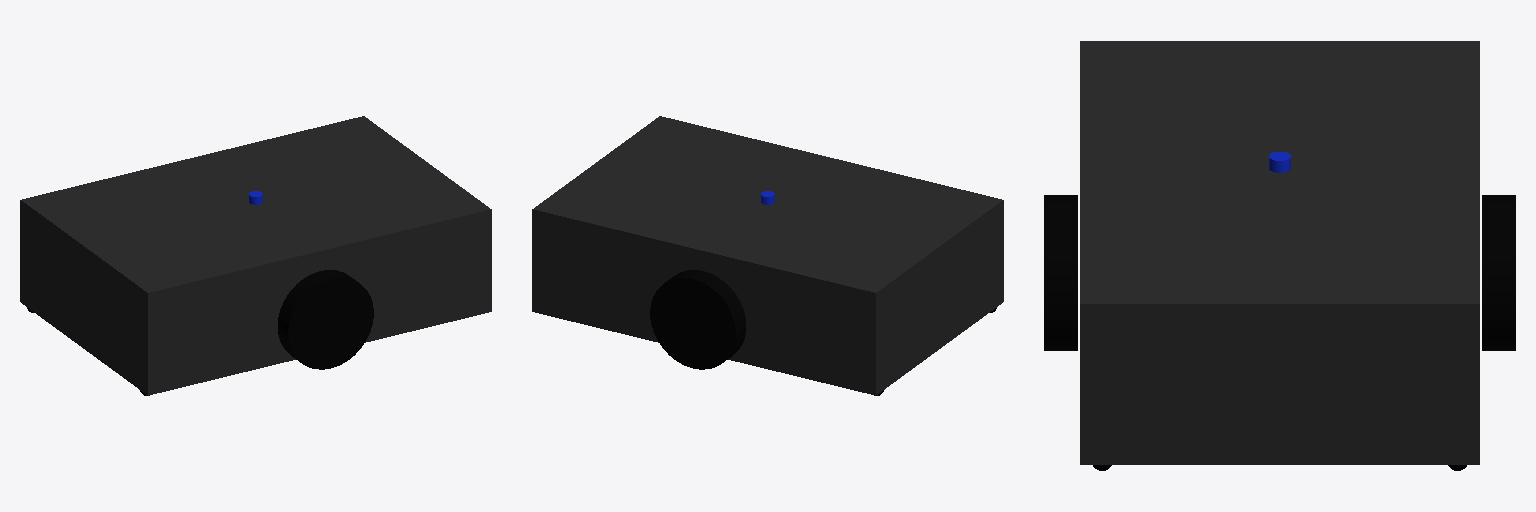
robot.urdf — diff_robot_xacro:
<?xml version="1.0" ?>
<!-- =================================================================================== -->
<!-- |    This document was autogenerated by xacro from testbot.urdf.xacro             | -->
<!-- |    EDITING THIS FILE BY HAND IS NOT RECOMMENDED                                 | -->
<!-- =================================================================================== -->
<robot name="diff_robot_xacro">
  <!-- materials -->
  <material name="dark_grey">
    <color rgba="0.2 0.2 0.2 1.0"/>
  </material>
  <material name="black">
    <color rgba="0.05 0.05 0.05 1.0"/>
  </material>
  <material name="blue">
    <color rgba="0.1 0.2 0.8 1.0"/>
  </material>
  <!-- ===================== Base & Footprint ===================== -->
  <link name="base_footprint"/>
  <link name="base_link"/>
  <joint name="base_joint" type="fixed">
    <parent link="base_footprint"/>
    <child link="base_link"/>
    <origin rpy="0 0 0.0" xyz="0.0 0 0.75"/>
  </joint>
  <link name="chassis_link">
    <inertial>
      <mass value="150.0"/>
      <inertia ixx="48.50000000000001" ixy="0" ixz="0" iyy="105.99999999999999" iyz="0" izz="138.49999999999997"/>
      <origin rpy="0 0 0" xyz="0 0 0"/>
    </inertial>
    <visual>
      <origin rpy="0 0 0" xyz="0 0 0"/>
      <geometry>
        <box size="2.8 1.8 0.8"/>
      </geometry>
      <material name="dark_grey"/>
    </visual>
    <collision>
      <origin rpy="0 0 0" xyz="0 0 0"/>
      <geometry>
        <box size="2.8 1.8 0.8"/>
      </geometry>
    </collision>
  </link>
  <joint name="chassis_joint" type="fixed">
    <parent link="base_link"/>
    <child link="chassis_link"/>
    <origin rpy="0 0 0.0" xyz="0.0 0 0"/>
  </joint>
  <!-- <link name="base_link">
    <inertial>
      <mass value="${base_mass}"/>
      <inertia
        ixx="${(1.0/12.0)*base_mass*(base_width*base_width + base_height*base_height)}"
        iyy="${(1.0/12.0)*base_mass*(base_length*base_length + base_height*base_height)}"
        izz="${(1.0/12.0)*base_mass*(base_length*base_length + base_width*base_width)}"
        ixy="0" ixz="0" iyz="0"/>
      <origin xyz="0 0 0" rpy="0 0 0"/>
    </inertial>
    <visual>
      <origin xyz="0 0 0" rpy="0 0 0"/>
      <geometry><box size="${base_length} ${base_width} ${base_height}"/></geometry>
      <material name="dark_grey"/>
    </visual>
    <collision>
      <origin xyz="0 0 0" rpy="0 0 0"/>
      <geometry><box size="${base_length} ${base_width} ${base_height}"/></geometry>
    </collision>
  </link> -->
  <!-- base_footprint at the ground projection of base_link -->
  <!-- <link name="base_footprint">
    <inertial>
      <mass value="0.001"/>
      <inertia ixx="1e-6" ixy="0" ixz="0" iyy="1e-6" iyz="0" izz="1e-6"/>
    </inertial>
  </link>
  <joint name="base_footprint_joint" type="fixed">
    <parent link="base_footprint"/>
    <child  link="base_link"/>
    <origin xyz="0 0 ${-half_h + ground_clearance}" rpy="0 0 0"/>
  </joint> -->
  <!-- ===================== Drive Wheels ===================== -->
  <link name="left_wheel_link">
    <inertial>
      <mass value="10.0"/>
      <!-- solid cylinder inertia: axis along +Y -->
      <inertia ixx="0.32499999999999996" ixy="0" ixz="0" iyy="0.6124999999999999" iyz="0" izz="0.32499999999999996"/>
    </inertial>
    <!-- ROTATION FIX: align cylinder axis (Z) to joint axis (Y) by +90° about X -->
    <visual>
      <origin rpy="1.57079632679 0 0" xyz="0 0 0"/>
      <geometry>
        <cylinder length="0.15" radius="0.35"/>
      </geometry>
      <material name="black"/>
    </visual>
    <collision>
      <origin rpy="1.57079632679 0 0" xyz="0 0 0"/>
      <geometry>
        <cylinder length="0.15" radius="0.35"/>
      </geometry>
      <surface>
        <friction>
          <ode>
            <mu>1.6</mu>
            <mu2>1.6</mu2>
            <slip1>0.02</slip1>
            <slip2>0.02</slip2>
          </ode>
        </friction>
      </surface>
    </collision>
  </link>
  <link name="right_wheel_link">
    <inertial>
      <mass value="10.0"/>
      <inertia ixx="0.32499999999999996" ixy="0" ixz="0" iyy="0.6124999999999999" iyz="0" izz="0.32499999999999996"/>
    </inertial>
    <visual>
      <origin rpy="1.57079632679 0 0" xyz="0 0 0"/>
      <geometry>
        <cylinder length="0.15" radius="0.35"/>
      </geometry>
      <material name="black"/>
    </visual>
    <collision>
      <origin rpy="1.57079632679 0 0" xyz="0 0 0"/>
      <geometry>
        <cylinder length="0.15" radius="0.35"/>
      </geometry>
      <surface>
        <friction>
          <ode>
            <mu>1.6</mu>
            <mu2>1.6</mu2>
            <slip1>0.02</slip1>
            <slip2>0.02</slip2>
          </ode>
        </friction>
      </surface>
    </collision>
  </link>
  <joint name="left_wheel_joint" type="continuous">
    <parent link="base_link"/>
    <child link="left_wheel_link"/>
    <origin rpy="0 0 0" xyz="0 0.985 -0.10000000000000005"/>
    <axis xyz="0 1 0"/>
    <limit effort="200.0" velocity="20.0"/>
    <dynamics damping="0.2" friction="0.0"/>
  </joint>
  <joint name="right_wheel_joint" type="continuous">
    <parent link="base_link"/>
    <child link="right_wheel_link"/>
    <origin rpy="0 0 0" xyz="0 -0.985 -0.10000000000000005"/>
    <axis xyz="0 1 0"/>
    <limit effort="200.0" velocity="20.0"/>
    <dynamics damping="0.2" friction="0.0"/>
  </joint>
  <!-- ===================== Sensors (links only; plugins below) ===================== -->
  <!-- LiDAR (roof center) -->
  <link name="lidar_link">
    <inertial>
      <mass value="1.0"/>
      <inertia ixx="0.002" ixy="0" ixz="0" iyy="0.002" iyz="0" izz="0.002"/>
    </inertial>
    <visual>
      <geometry>
        <cylinder length="0.06" radius="0.05"/>
      </geometry>
      <material name="blue"/>
    </visual>
    <collision>
      <geometry>
        <cylinder length="0.06" radius="0.05"/>
      </geometry>
    </collision>
  </link>
  <joint name="lidar_joint" type="fixed">
    <parent link="base_link"/>
    <child link="lidar_link"/>
    <origin rpy="0 0 0" xyz="0 0 0.45"/>
  </joint>
  <!-- IMU (near COM) -->
  <link name="imu_link">
    <inertial>
      <mass value="0.2"/>
      <inertia ixx="0.0002" ixy="0" ixz="0" iyy="0.0002" iyz="0" izz="0.0002"/>
    </inertial>
    <visual>
      <geometry>
        <box size="0.05 0.05 0.02"/>
      </geometry>
      <material name="blue"/>
    </visual>
    <collision>
      <geometry>
        <box size="0.05 0.05 0.02"/>
      </geometry>
    </collision>
  </link>
  <joint name="imu_joint" type="fixed">
    <parent link="base_link"/>
    <child link="imu_link"/>
    <origin rpy="0 0 0" xyz="0 0 0.2"/>
  </joint>
  <!-- Front 2D camera -->
  <link name="front_camera_link">
    <inertial>
      <mass value="0.3"/>
      <inertia ixx="0.0003" ixy="0" ixz="0" iyy="0.0003" iyz="0" izz="0.0003"/>
    </inertial>
    <visual>
      <geometry>
        <box size="0.08 0.06 0.06"/>
      </geometry>
      <material name="blue"/>
    </visual>
    <collision>
      <geometry>
        <box size="0.08 0.06 0.06"/>
      </geometry>
    </collision>
  </link>
  <joint name="front_camera_joint" type="fixed">
    <parent link="base_link"/>
    <child link="front_camera_link"/>
    <origin rpy="0 0 0" xyz="1.3499999999999999 0 0.25"/>
  </joint>
  <!-- 중간 피벗(피치) 링크 -->
  <link name="front_left_caster_pitch_link">
    <inertial>
      <mass value="0.02"/>
      <inertia ixx="1e-5" ixy="0" ixz="0" iyy="1e-5" iyz="0" izz="1e-5"/>
    </inertial>
  </link>
  <!-- pitch: base_link -> pitch_link (X축) -->
  <joint name="front_left_caster_pitch_joint" type="continuous">
    <parent link="base_link"/>
    <child link="front_left_caster_pitch_link"/>
    <origin rpy="0 0 0" xyz="1.3499999999999999 0.8 -0.399"/>
    <axis xyz="1 0 0"/>
    <limit effort="50" velocity="100"/>
    <dynamics damping="0.01"/>
  </joint>
  <!-- 볼(구) 캐스터 링크 -->
  <link name="front_left_caster_ball_link">
    <inertial>
      <mass value="0.15"/>
      <inertia ixx="0.00015000000000000001" ixy="0" ixz="0" iyy="0.00015000000000000001" iyz="0" izz="0.00015000000000000001"/>
    </inertial>
    <visual>
      <origin rpy="0 0 0" xyz="0 0 0"/>
      <geometry>
        <sphere radius="0.05"/>
      </geometry>
      <material name="black"/>
    </visual>
    <collision>
      <origin rpy="0 0 0" xyz="0 0 0"/>
      <geometry>
        <sphere radius="0.05"/>
      </geometry>
      <surface>
        <friction>
          <ode>
            <mu>0.0</mu>
            <mu2>0.0</mu2>
            <slip1>0.01</slip1>
            <slip2>0.01</slip2>
          </ode>
        </friction>
      </surface>
    </collision>
  </link>
  <!-- roll: pitch_link -> ball_link (Y축) -->
  <joint name="front_left_caster_roll_joint" type="continuous">
    <parent link="front_left_caster_pitch_link"/>
    <child link="front_left_caster_ball_link"/>
    <origin rpy="0 0 0" xyz="0 0 0"/>
    <axis xyz="0 1 0"/>
    <limit effort="50" velocity="100"/>
    <dynamics damping="0.01"/>
  </joint>
  <gazebo reference="front_left_caster_ball_link">
    <material>Gazebo/Black</material>
  </gazebo>
  <!-- 중간 피벗(피치) 링크 -->
  <link name="front_right_caster_pitch_link">
    <inertial>
      <mass value="0.02"/>
      <inertia ixx="1e-5" ixy="0" ixz="0" iyy="1e-5" iyz="0" izz="1e-5"/>
    </inertial>
  </link>
  <!-- pitch: base_link -> pitch_link (X축) -->
  <joint name="front_right_caster_pitch_joint" type="continuous">
    <parent link="base_link"/>
    <child link="front_right_caster_pitch_link"/>
    <origin rpy="0 0 0" xyz="1.3499999999999999 -0.8 -0.399"/>
    <axis xyz="1 0 0"/>
    <limit effort="50" velocity="100"/>
    <dynamics damping="0.01"/>
  </joint>
  <!-- 볼(구) 캐스터 링크 -->
  <link name="front_right_caster_ball_link">
    <inertial>
      <mass value="0.15"/>
      <inertia ixx="0.00015000000000000001" ixy="0" ixz="0" iyy="0.00015000000000000001" iyz="0" izz="0.00015000000000000001"/>
    </inertial>
    <visual>
      <origin rpy="0 0 0" xyz="0 0 0"/>
      <geometry>
        <sphere radius="0.05"/>
      </geometry>
      <material name="black"/>
    </visual>
    <collision>
      <origin rpy="0 0 0" xyz="0 0 0"/>
      <geometry>
        <sphere radius="0.05"/>
      </geometry>
      <surface>
        <friction>
          <ode>
            <mu>0.0</mu>
            <mu2>0.0</mu2>
            <slip1>0.01</slip1>
            <slip2>0.01</slip2>
          </ode>
        </friction>
      </surface>
    </collision>
  </link>
  <!-- roll: pitch_link -> ball_link (Y축) -->
  <joint name="front_right_caster_roll_joint" type="continuous">
    <parent link="front_right_caster_pitch_link"/>
    <child link="front_right_caster_ball_link"/>
    <origin rpy="0 0 0" xyz="0 0 0"/>
    <axis xyz="0 1 0"/>
    <limit effort="50" velocity="100"/>
    <dynamics damping="0.01"/>
  </joint>
  <gazebo reference="front_right_caster_ball_link">
    <material>Gazebo/Black</material>
  </gazebo>
  <!-- 중간 피벗(피치) 링크 -->
  <link name="back_left_caster_pitch_link">
    <inertial>
      <mass value="0.02"/>
      <inertia ixx="1e-5" ixy="0" ixz="0" iyy="1e-5" iyz="0" izz="1e-5"/>
    </inertial>
  </link>
  <!-- pitch: base_link -> pitch_link (X축) -->
  <joint name="back_left_caster_pitch_joint" type="continuous">
    <parent link="base_link"/>
    <child link="back_left_caster_pitch_link"/>
    <origin rpy="0 0 0" xyz="-1.3499999999999999 0.8 -0.399"/>
    <axis xyz="1 0 0"/>
    <limit effort="50" velocity="100"/>
    <dynamics damping="0.01"/>
  </joint>
  <!-- 볼(구) 캐스터 링크 -->
  <link name="back_left_caster_ball_link">
    <inertial>
      <mass value="0.15"/>
      <inertia ixx="0.00015000000000000001" ixy="0" ixz="0" iyy="0.00015000000000000001" iyz="0" izz="0.00015000000000000001"/>
    </inertial>
    <visual>
      <origin rpy="0 0 0" xyz="0 0 0"/>
      <geometry>
        <sphere radius="0.05"/>
      </geometry>
      <material name="black"/>
    </visual>
    <collision>
      <origin rpy="0 0 0" xyz="0 0 0"/>
      <geometry>
        <sphere radius="0.05"/>
      </geometry>
      <surface>
        <friction>
          <ode>
            <mu>0.0</mu>
            <mu2>0.0</mu2>
            <slip1>0.01</slip1>
            <slip2>0.01</slip2>
          </ode>
        </friction>
      </surface>
    </collision>
  </link>
  <!-- roll: pitch_link -> ball_link (Y축) -->
  <joint name="back_left_caster_roll_joint" type="continuous">
    <parent link="back_left_caster_pitch_link"/>
    <child link="back_left_caster_ball_link"/>
    <origin rpy="0 0 0" xyz="0 0 0"/>
    <axis xyz="0 1 0"/>
    <limit effort="50" velocity="100"/>
    <dynamics damping="0.01"/>
  </joint>
  <gazebo reference="back_left_caster_ball_link">
    <material>Gazebo/Black</material>
  </gazebo>
  <!-- 중간 피벗(피치) 링크 -->
  <link name="back_right_caster_pitch_link">
    <inertial>
      <mass value="0.02"/>
      <inertia ixx="1e-5" ixy="0" ixz="0" iyy="1e-5" iyz="0" izz="1e-5"/>
    </inertial>
  </link>
  <!-- pitch: base_link -> pitch_link (X축) -->
  <joint name="back_right_caster_pitch_joint" type="continuous">
    <parent link="base_link"/>
    <child link="back_right_caster_pitch_link"/>
    <origin rpy="0 0 0" xyz="-1.3499999999999999 -0.8 -0.399"/>
    <axis xyz="1 0 0"/>
    <limit effort="50" velocity="100"/>
    <dynamics damping="0.01"/>
  </joint>
  <!-- 볼(구) 캐스터 링크 -->
  <link name="back_right_caster_ball_link">
    <inertial>
      <mass value="0.15"/>
      <inertia ixx="0.00015000000000000001" ixy="0" ixz="0" iyy="0.00015000000000000001" iyz="0" izz="0.00015000000000000001"/>
    </inertial>
    <visual>
      <origin rpy="0 0 0" xyz="0 0 0"/>
      <geometry>
        <sphere radius="0.05"/>
      </geometry>
      <material name="black"/>
    </visual>
    <collision>
      <origin rpy="0 0 0" xyz="0 0 0"/>
      <geometry>
        <sphere radius="0.05"/>
      </geometry>
      <surface>
        <friction>
          <ode>
            <mu>0.0</mu>
            <mu2>0.0</mu2>
            <slip1>0.01</slip1>
            <slip2>0.01</slip2>
          </ode>
        </friction>
      </surface>
    </collision>
  </link>
  <!-- roll: pitch_link -> ball_link (Y축) -->
  <joint name="back_right_caster_roll_joint" type="continuous">
    <parent link="back_right_caster_pitch_link"/>
    <child link="back_right_caster_ball_link"/>
    <origin rpy="0 0 0" xyz="0 0 0"/>
    <axis xyz="0 1 0"/>
    <limit effort="50" velocity="100"/>
    <dynamics damping="0.01"/>
  </joint>
  <gazebo reference="back_right_caster_ball_link">
    <material>Gazebo/Black</material>
  </gazebo>
  <!-- ===================== Gazebo/Ignition Sensors (Classic-style blocks kept) ===================== -->
  <gazebo reference="lidar_link">
    <sensor name="3d_lidar" type="gpu_lidar">
      <always_on>true</always_on>
      <visualize>true</visualize>
      <update_rate>20</update_rate>
      <gz_frame_id>lidar_link</gz_frame_id>
      <topic>/scan</topic>
      <lidar>
        <scan>
          <horizontal>
            <samples>1024</samples>
            <resolution>1</resolution>
            <min_angle>-3.14159265</min_angle>
            <max_angle>3.14159265</max_angle>
          </horizontal>
          <!-- <vertical>
            <samples>16</samples>
            <resolution>1</resolution>
            <min_angle>-0.127409</min_angle>
            <max_angle> 0.617846</max_angle>
          </vertical> -->
        </scan>
        <range>
          <min>0.3</min>
          <max>62.0</max>
          <resolution>0.01</resolution>
        </range>
        <noise>
          <type>gaussian</type>
          <mean>0.0</mean>
          <stddev>0.01</stddev>
        </noise>
      </lidar>
    </sensor>
  </gazebo>
  <gazebo reference="imu_link">
    <sensor name="imu_sensor" type="imu">
      <always_on>true</always_on>
      <update_rate>100</update_rate>
      <gz_frame_id>imu_link</gz_frame_id>
      <topic>/imu</topic>
    </sensor>
  </gazebo>
  <gazebo reference="front_camera_link">
    <sensor name="front_camera" type="camera">
      <always_on>true</always_on>
      <update_rate>30</update_rate>
      <gz_frame_id>front_camera_link</gz_frame_id>
      <topic>/front_camera/image</topic>
      <camera>
        <horizontal_fov>1.3962634</horizontal_fov>
        <image>
          <width>1280</width>
          <height>720</height>
          <format>R8G8B8</format>
        </image>
        <clip>
          <near>0.1</near>
          <far>100.0</far>
        </clip>
      </camera>
    </sensor>
  </gazebo>
  <!-- Gazebo visuals -->
  <gazebo reference="base_link">
    <material>Gazebo/DarkGrey</material>
  </gazebo>
  <gazebo reference="left_wheel_link">
    <material>Gazebo/Black</material>
  </gazebo>
  <gazebo reference="right_wheel_link">
    <material>Gazebo/Black</material>
  </gazebo>
  <!-- ===================== GZ Sim System Plugins ===================== -->
  <gazebo>
    <plugin filename="gz-sim-sensors-system" name="gz::sim::systems::Sensors">
      <render_engine>ogre2</render_engine>
    </plugin>
    <plugin filename="gz-sim-imu-system" name="gz::sim::systems::Imu">
    </plugin>
    <plugin filename="gz-sim-joint-state-publisher-system" name="gz::sim::systems::JointStatePublisher">
    </plugin>
    <!-- ........................... DIFFERENTIAL DRIVE PLUGIN ................................... -->
    <plugin filename="gz-sim-diff-drive-system" name="gz::sim::systems::DiffDrive">
      <left_joint>left_wheel_joint</left_joint>
      <right_joint>right_wheel_joint</right_joint>
      <wheel_separation>1.97</wheel_separation>
      <wheel_radius>0.35</wheel_radius>
      <odom_publish_frequency>20</odom_publish_frequency>
      <topic>/cmd_vel</topic>
      <frame_id>odom</frame_id>
      <child_frame_id>base_footprint</child_frame_id>
    </plugin>
    <plugin filename="gz-sim-odometry-publisher-system" name="gz::sim::systems::OdometryPublisher">
      <odom_frame>odom</odom_frame>
      <robot_base_frame>base_footprint</robot_base_frame>
      <odom_topic>/odom</odom_topic>
      <tf_topic>/tf</tf_topic>
      <dimensions>2</dimensions>
      <odom_publish_frequency>20</odom_publish_frequency>
    </plugin>
  </gazebo>
</robot>

--- Render facts (derived) ---
The picture shows the robot from 3 angles, left to right: view 1: azimuth 30°, elevation 25°; view 2: azimuth 150°, elevation 25°; view 3: azimuth 270°, elevation 25°; orthographic projection.
Robot: diff_robot_xacro — 16 links, 15 joints (10 continuous, 5 fixed); root link base_footprint; default pose: every joint at zero.
Links seen in each view (by area): view 1: chassis_link, right_wheel_link; view 2: chassis_link, left_wheel_link; view 3: chassis_link, left_wheel_link, right_wheel_link.
Boxes of the visible links, x1,y1,x2,y2 form: chassis_link: (20, 116, 491, 395); right_wheel_link: (278, 270, 373, 369); chassis_link: (532, 116, 1003, 395); left_wheel_link: (650, 270, 745, 369); chassis_link: (1080, 41, 1479, 464); left_wheel_link: (1482, 195, 1515, 350); right_wheel_link: (1044, 195, 1077, 350).
Bounding box of the posed robot: 2.8 × 2.12 × 0.93 m (x, y, z).
Geometry: primitives only (box / cylinder / sphere), no mesh files.
